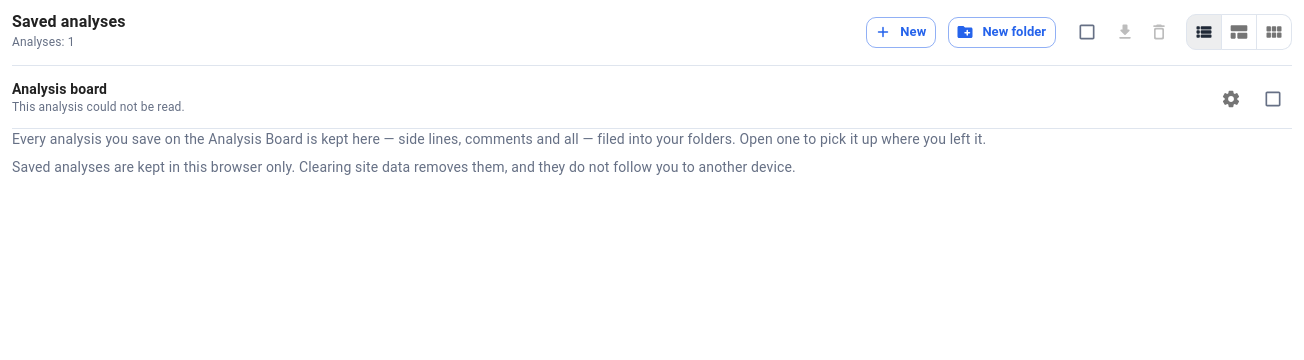
Test case: Saved analyses — the board view › shows the message in the square for a record with no position to draw
This screenshot has width=1304, height=360.
Expected: the element with test id "saved-analyses-screen" is shown, [12,12,1292,129]
What coordinates should you click on to do the following:
click the button with test id "saved-analyses-view-compact"
I would click on:
 (1239, 32)
Its box is [1221,14,1257,50].
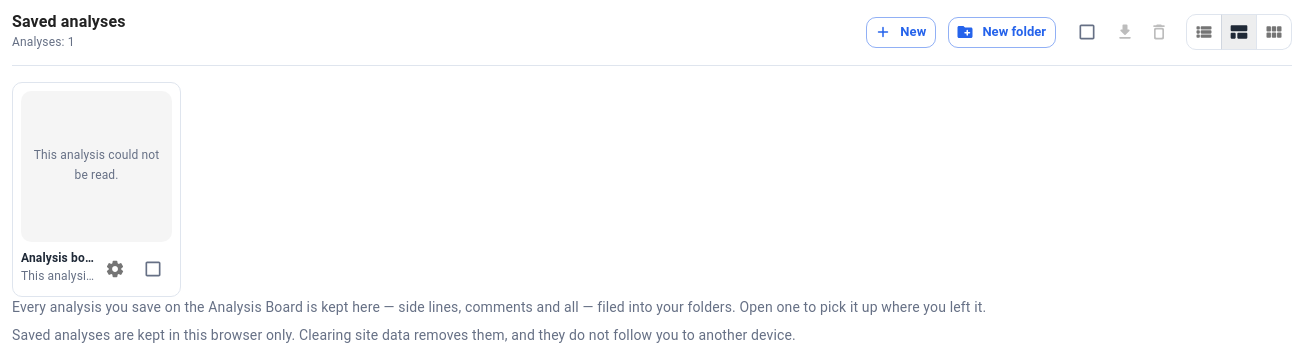
Expected: the element with test id "saved-analyses-item-a1" shows "This analysis could not be read.", [34,148,159,182]
